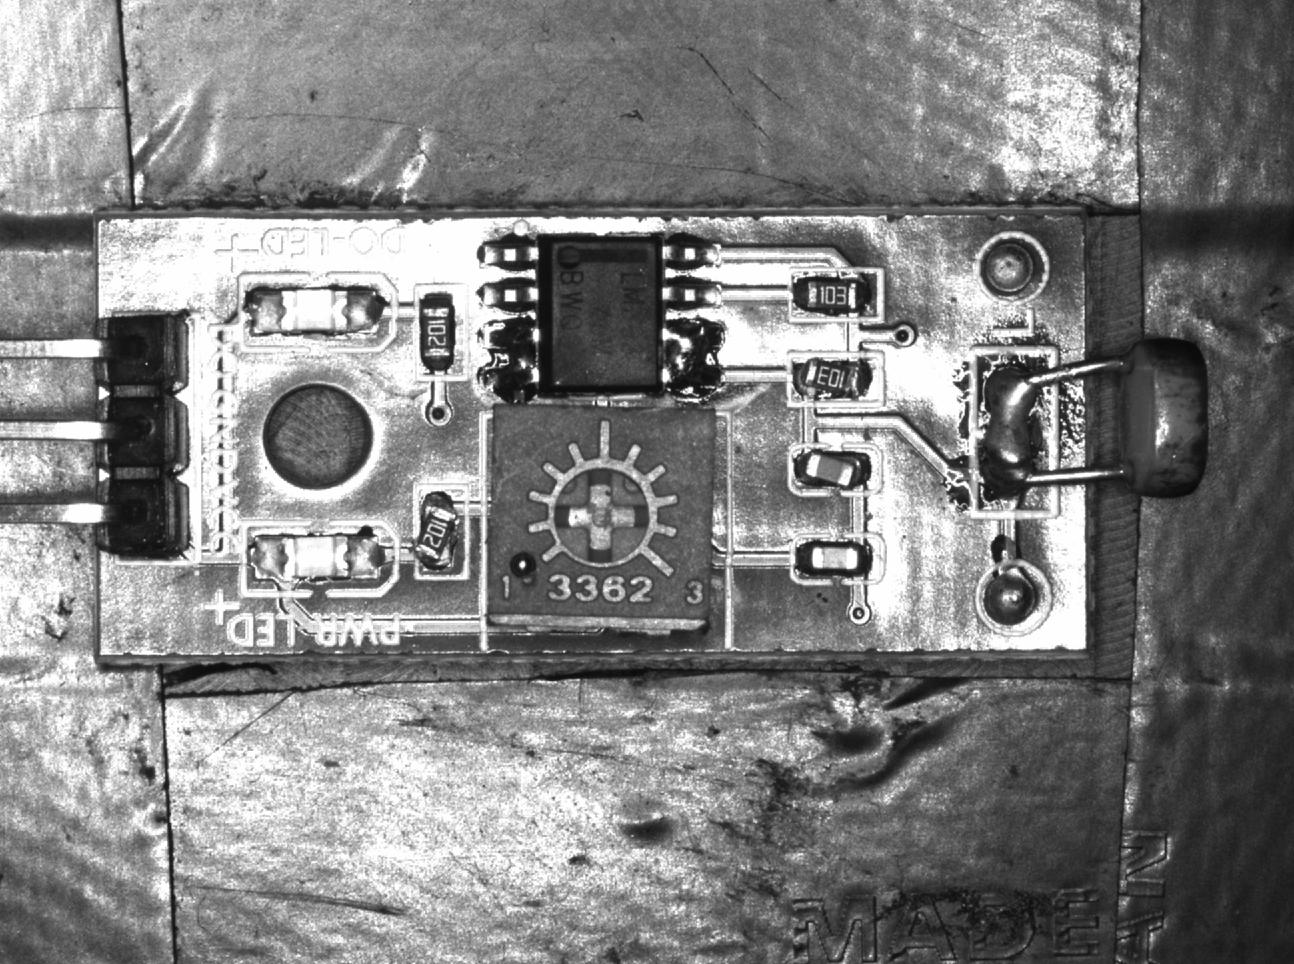bridge: (966, 345, 1055, 523), (474, 313, 539, 409), (659, 319, 726, 393)
lifted: (411, 482, 469, 576), (786, 351, 885, 405), (787, 445, 883, 496)
ok: (788, 269, 882, 321), (795, 533, 887, 585), (417, 284, 467, 380)
